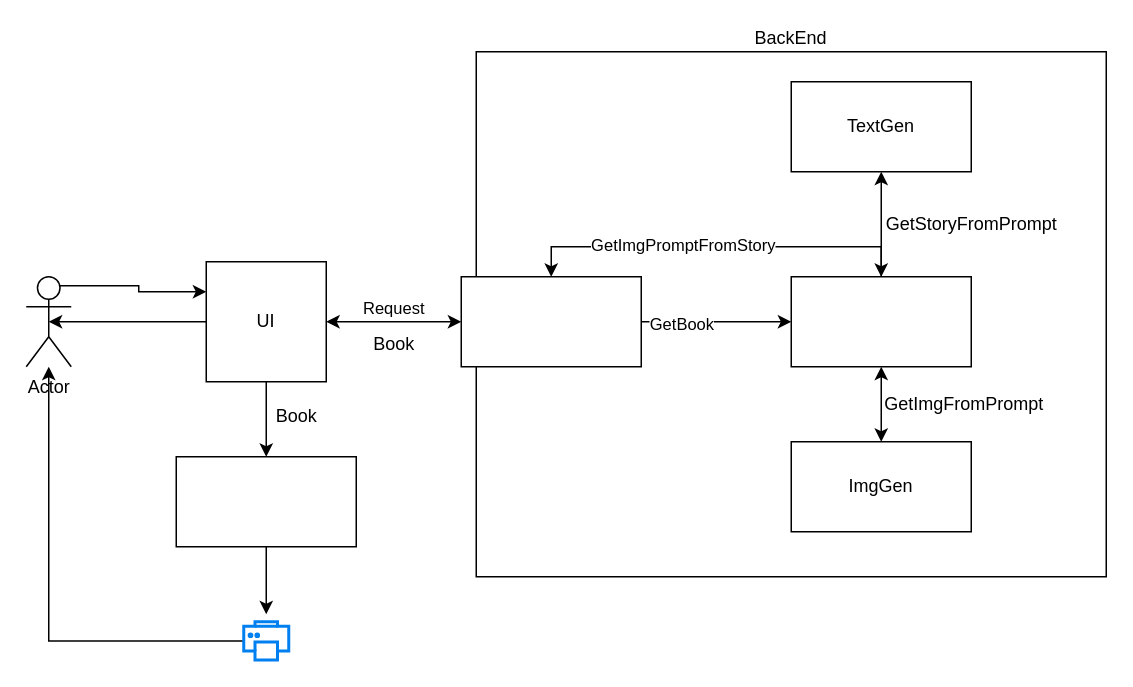
The diagram is 1133 pixels wide and 687 high, and some of its shapes have lost their labels. Here are the shapes that lost their labels. From the top down, the centre of each, then its label:
(550,321): PromptGen
(880,321): BookGen
(265,501): Printer Service
